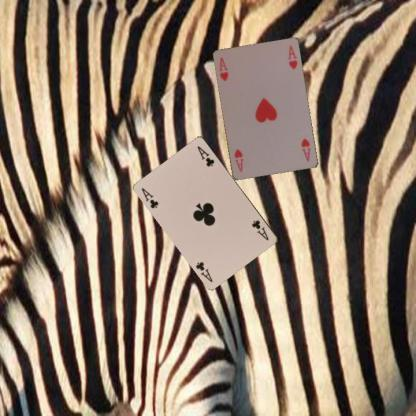Ac: (249, 217, 270, 242), (139, 185, 160, 210)
Ah: (298, 136, 312, 163), (217, 55, 230, 83)
